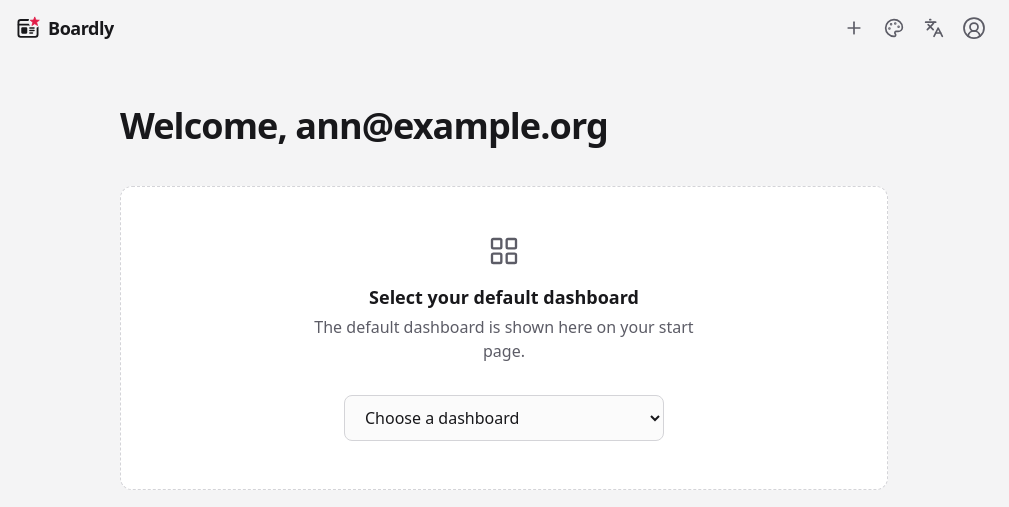
Test: home page › lets the user pick a default dashboard and shows it
The image size is (1009, 507).
Expected: the heading "Select your default dashboard" is shown, [369,285,639,309]
Select "Work" in the dropdown named "Default dashboard" at (504, 418), box [344,395,664,441]
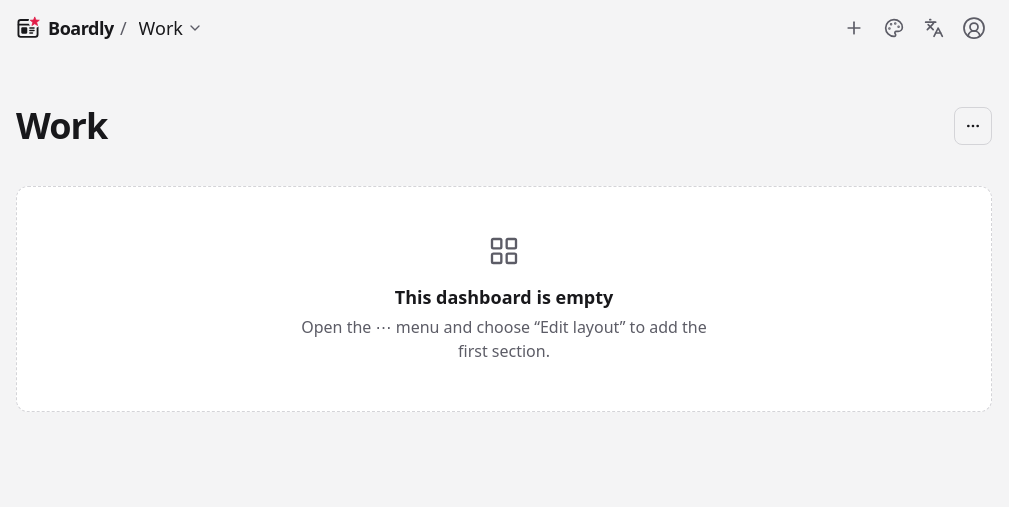
Expected: the heading "Work" is shown, [16,106,108,146]
